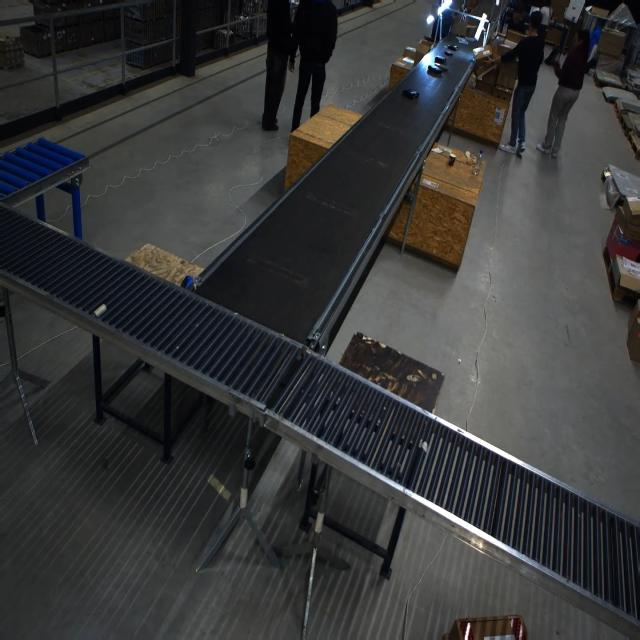box: (415, 39, 432, 57)
product: (402, 88, 419, 99), (427, 65, 444, 74), (455, 36, 468, 45), (434, 55, 447, 63), (465, 36, 477, 44), (446, 44, 458, 51), (444, 50, 454, 55)
